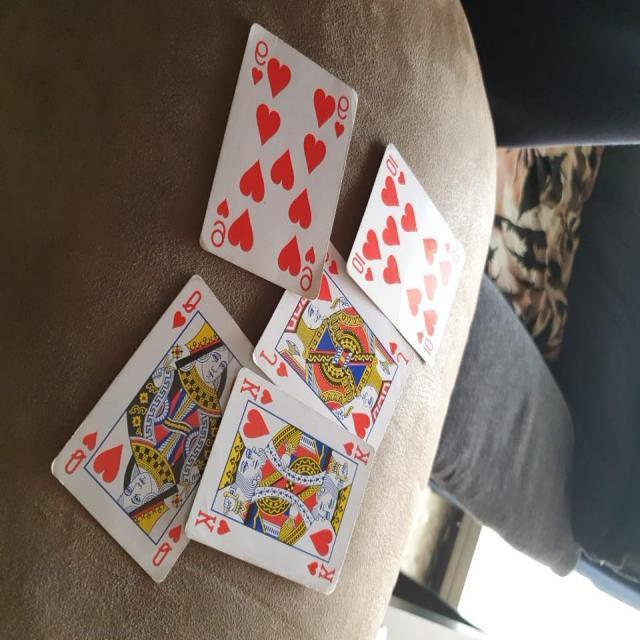10 of hearts: (338, 136, 466, 382)
9 of hearts: (194, 26, 364, 312)
jack of hearts: (242, 247, 416, 464)
king of hearts: (185, 369, 378, 600)
queen of hearts: (44, 262, 255, 596)
